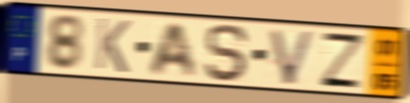8: (45, 12, 86, 73)
A: (147, 21, 200, 79)
K: (93, 15, 133, 75)
S: (203, 22, 251, 84)
V: (267, 26, 319, 87)
Z: (317, 30, 368, 92)
